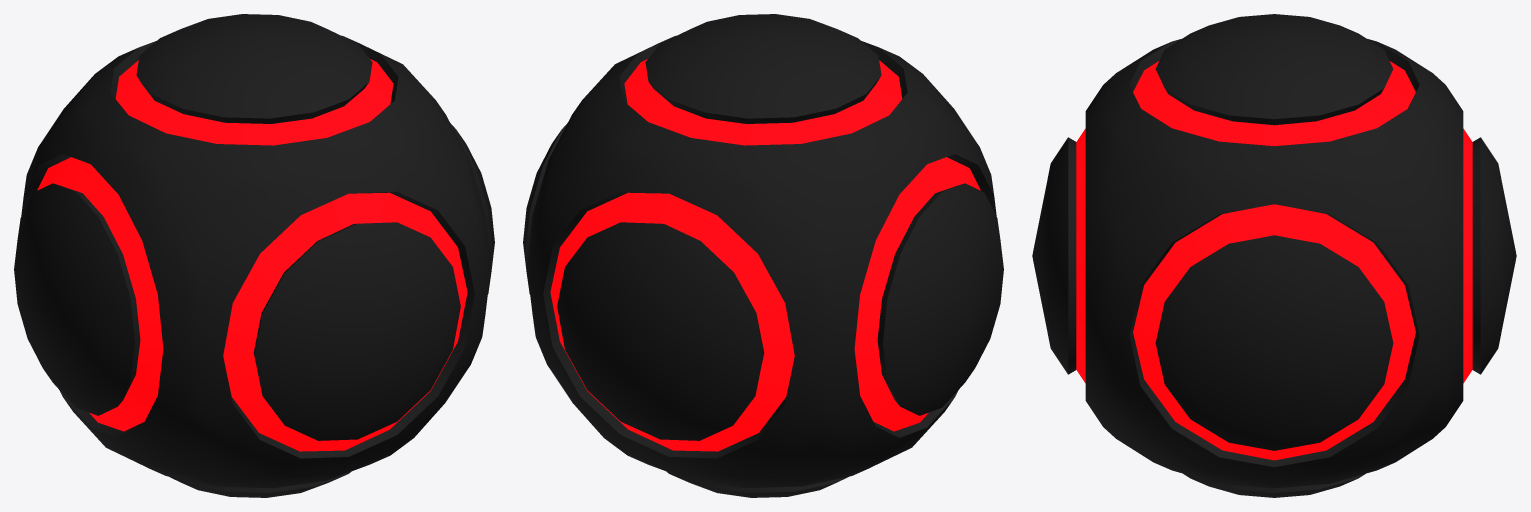
The model's file is obstacle.glb.
3 renders of one model, left to right at view 1: azimuth 30°, elevation 25°; view 2: azimuth 150°, elevation 25°; view 3: azimuth 270°, elevation 25°, orthographic.
Visible parts, largest first — view 1: obstacle_view, obstacle_glow; view 2: obstacle_view, obstacle_glow; view 3: obstacle_view, obstacle_glow.
Boxes of the visible parts, <box> form: obstacle_view: <box>14,14,494,497</box>; obstacle_glow: <box>37,59,467,451</box>; obstacle_view: <box>523,14,1003,497</box>; obstacle_glow: <box>550,59,980,451</box>; obstacle_view: <box>1032,14,1516,497</box>; obstacle_glow: <box>1076,61,1472,460</box>.
Bounding box in the file's own units: 1 × 1 × 1.
